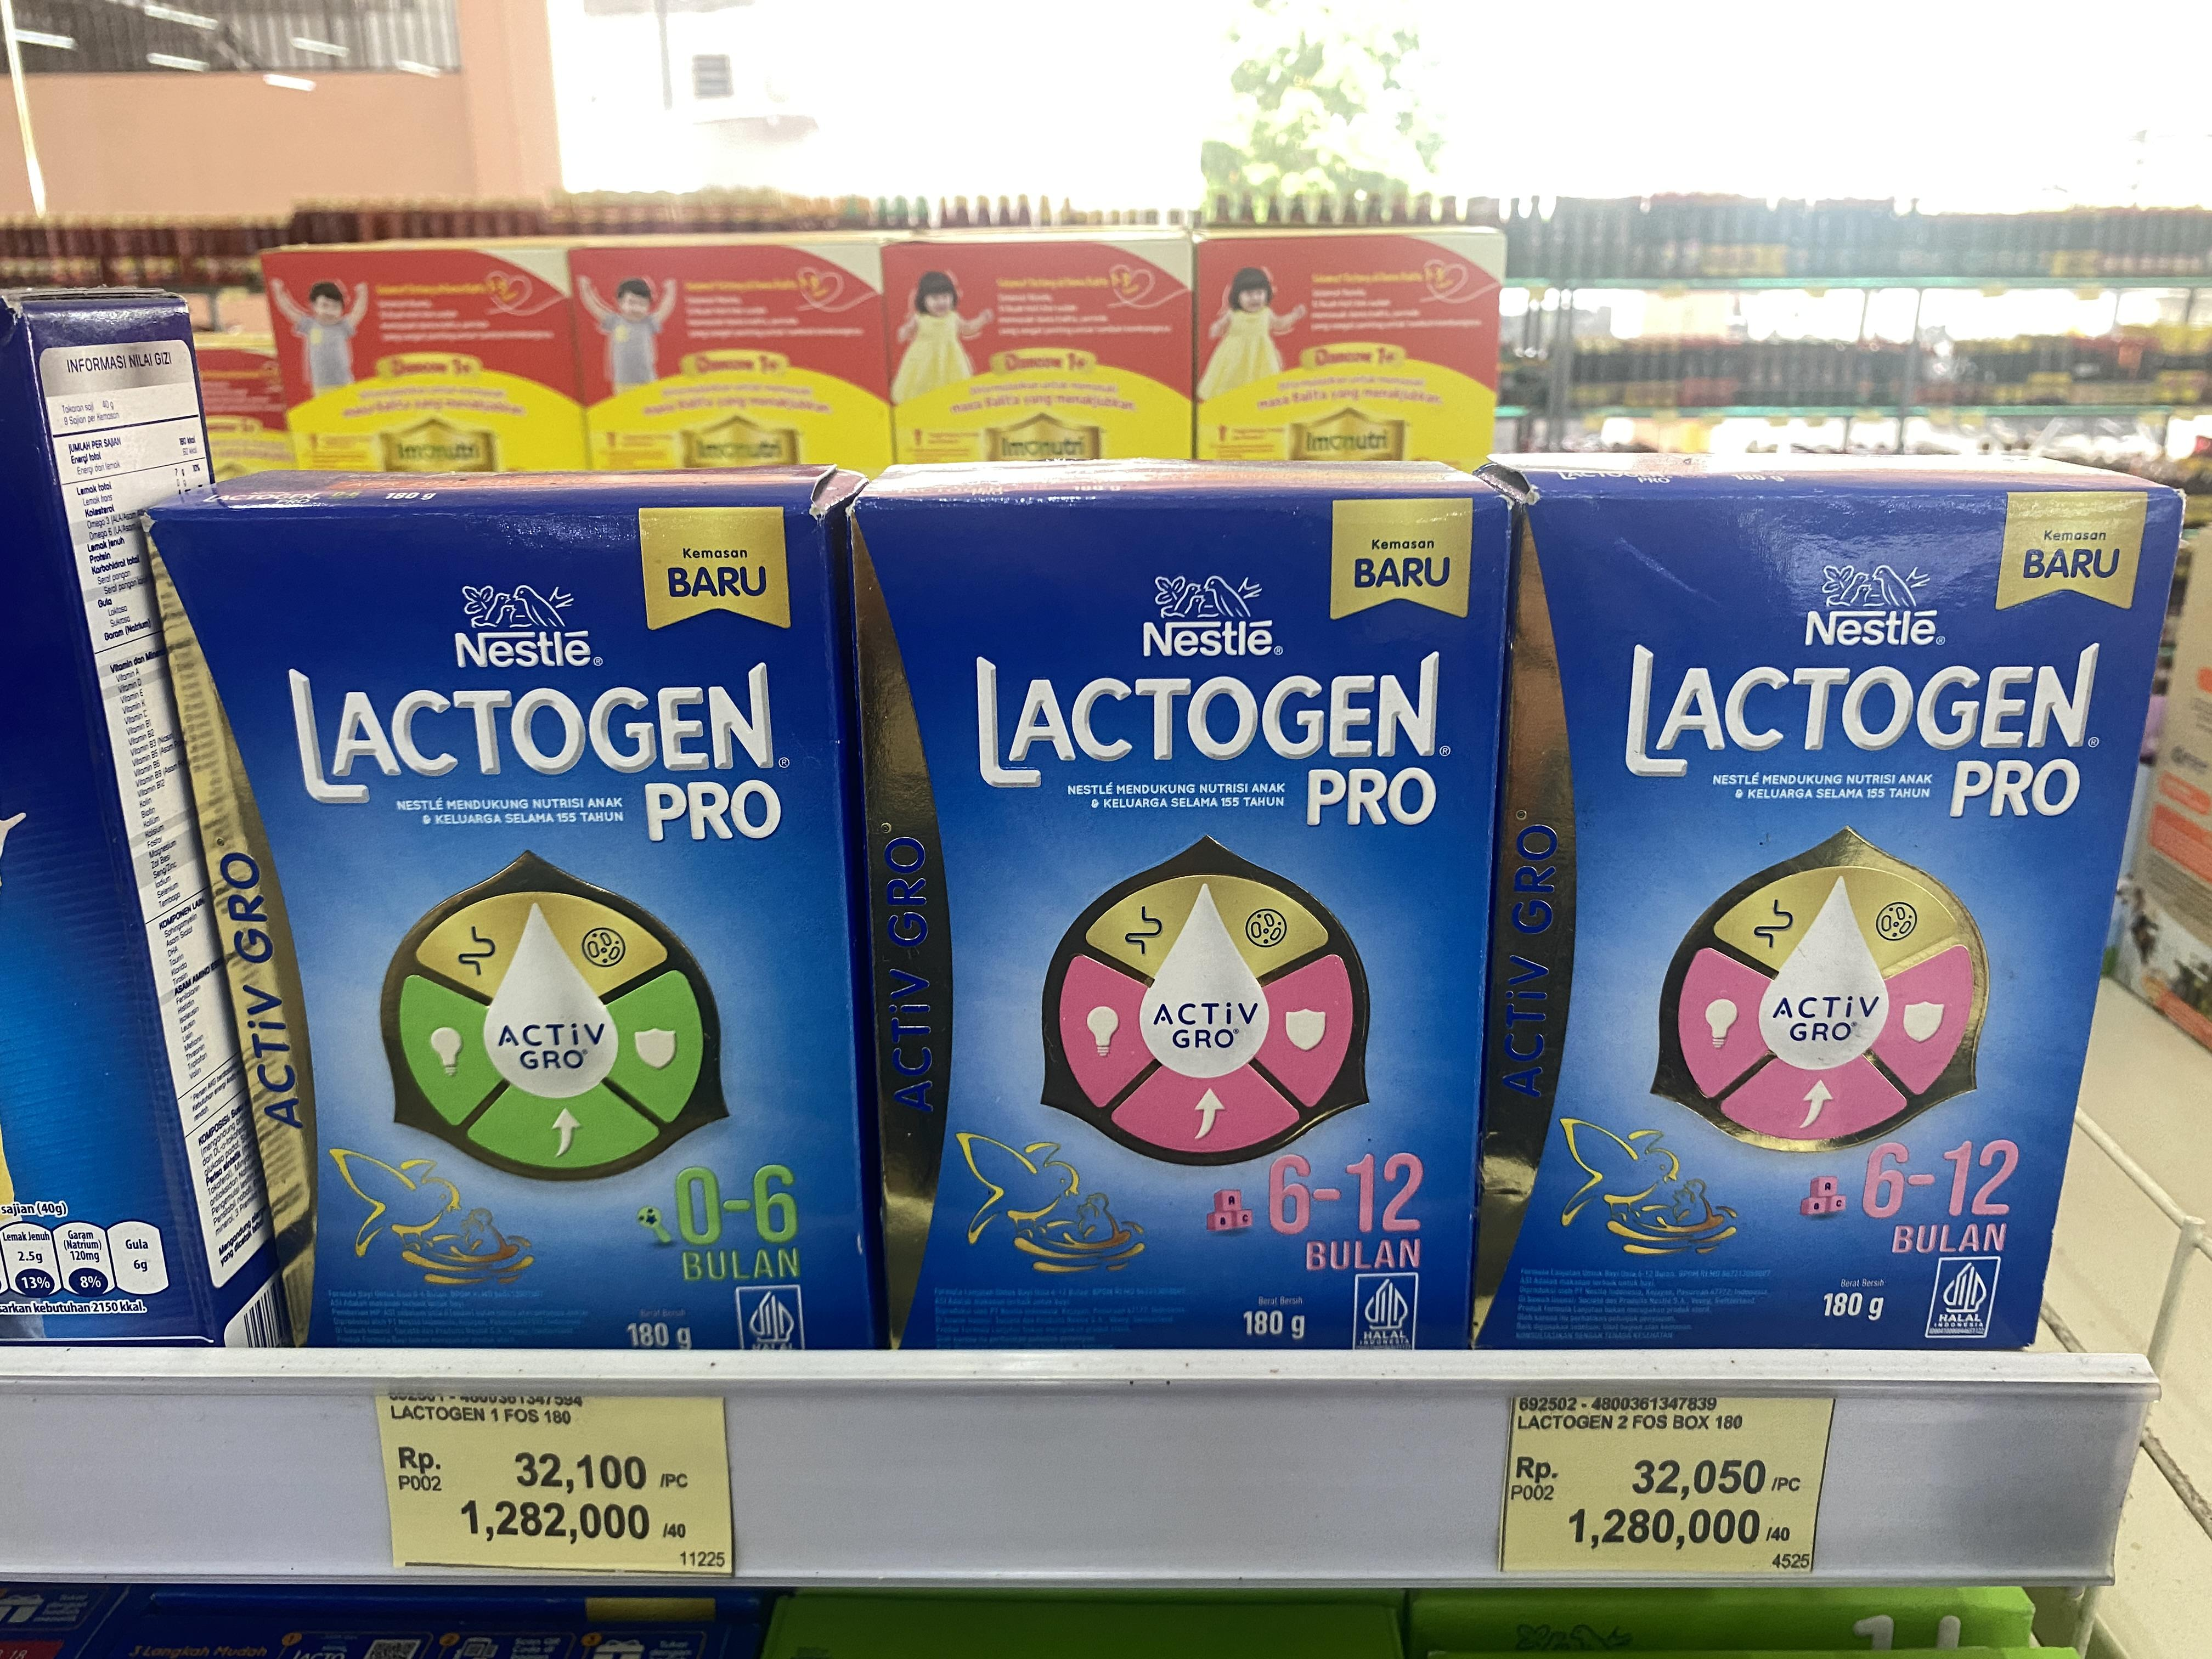LACTOGEN 2 Happynutri 24x350g N1 ID_REDESIGN2: (138, 493, 880, 1359)
LACTOGEN PRO 0-6 mo 24x350g ID: (138, 491, 869, 1356), (860, 491, 1484, 1356)
LACTOGEN PRO 6-12 mo 12x735g ID: (143, 497, 859, 1366), (1510, 476, 2184, 1361), (862, 495, 1486, 1354)
LACTOGEN PRO 6-12 mo 24x350g ID: (855, 488, 1503, 1356)
